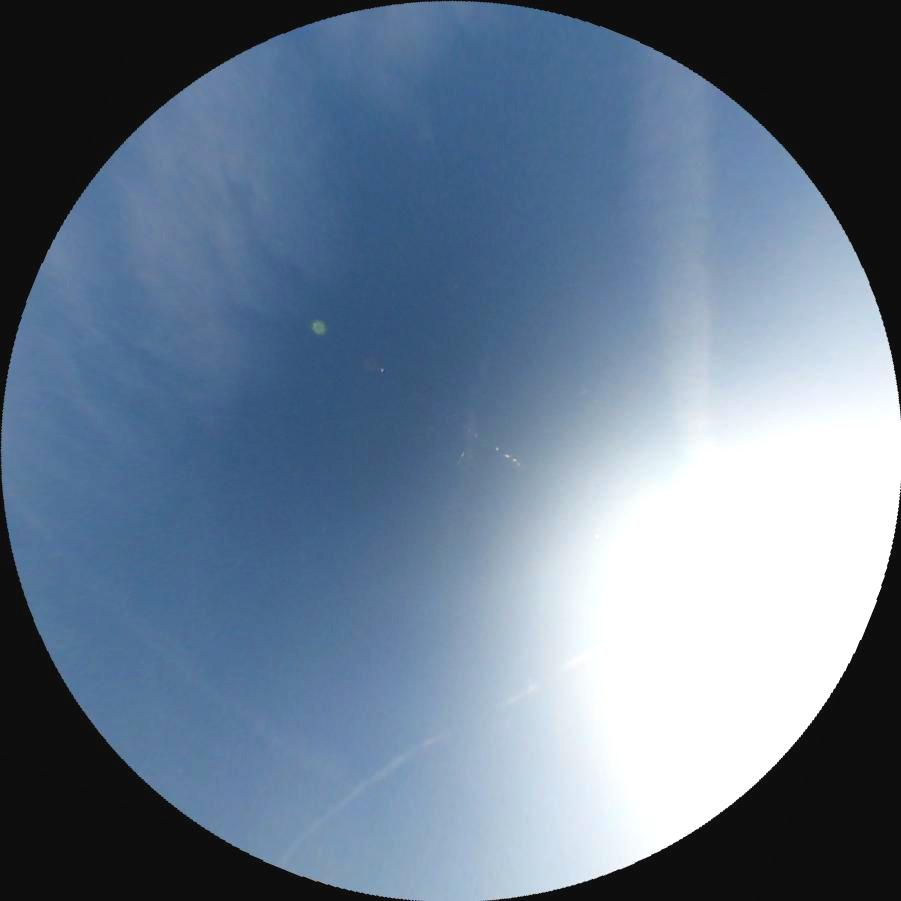contrail old: (263, 595, 646, 870)
contrail veryold: (0, 500, 358, 784), (627, 36, 730, 518)
sun: (630, 467, 896, 725)
